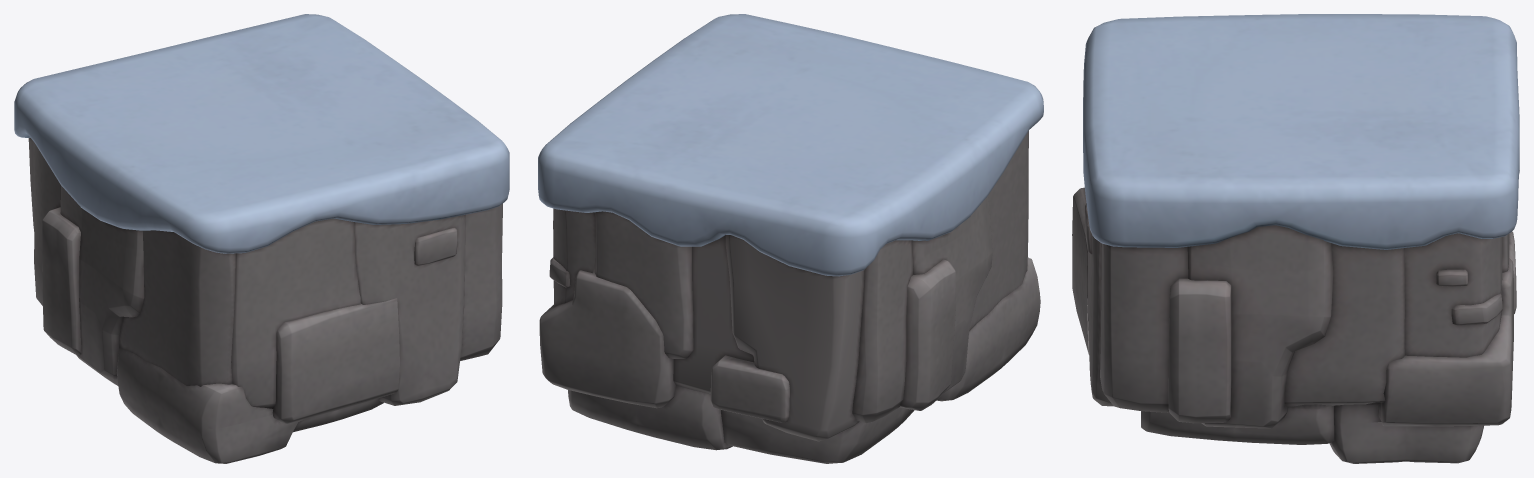
File: SnowFloor_Cube.fbx
3 renders of one model, left to right at view 1: azimuth 30°, elevation 25°; view 2: azimuth 150°, elevation 25°; view 3: azimuth 270°, elevation 25°, orthographic. The views are drawn at different scales.
Visible parts, largest first — view 1: SnowFloor_Cube; view 2: SnowFloor_Cube; view 3: SnowFloor_Cube.
Part boxes in pixels (x1,y1,x2,y2): SnowFloor_Cube: [14, 14, 509, 463]; SnowFloor_Cube: [538, 14, 1043, 463]; SnowFloor_Cube: [1072, 14, 1519, 463].
Size of the model in its own units: 3328 by 2404 by 3306.
